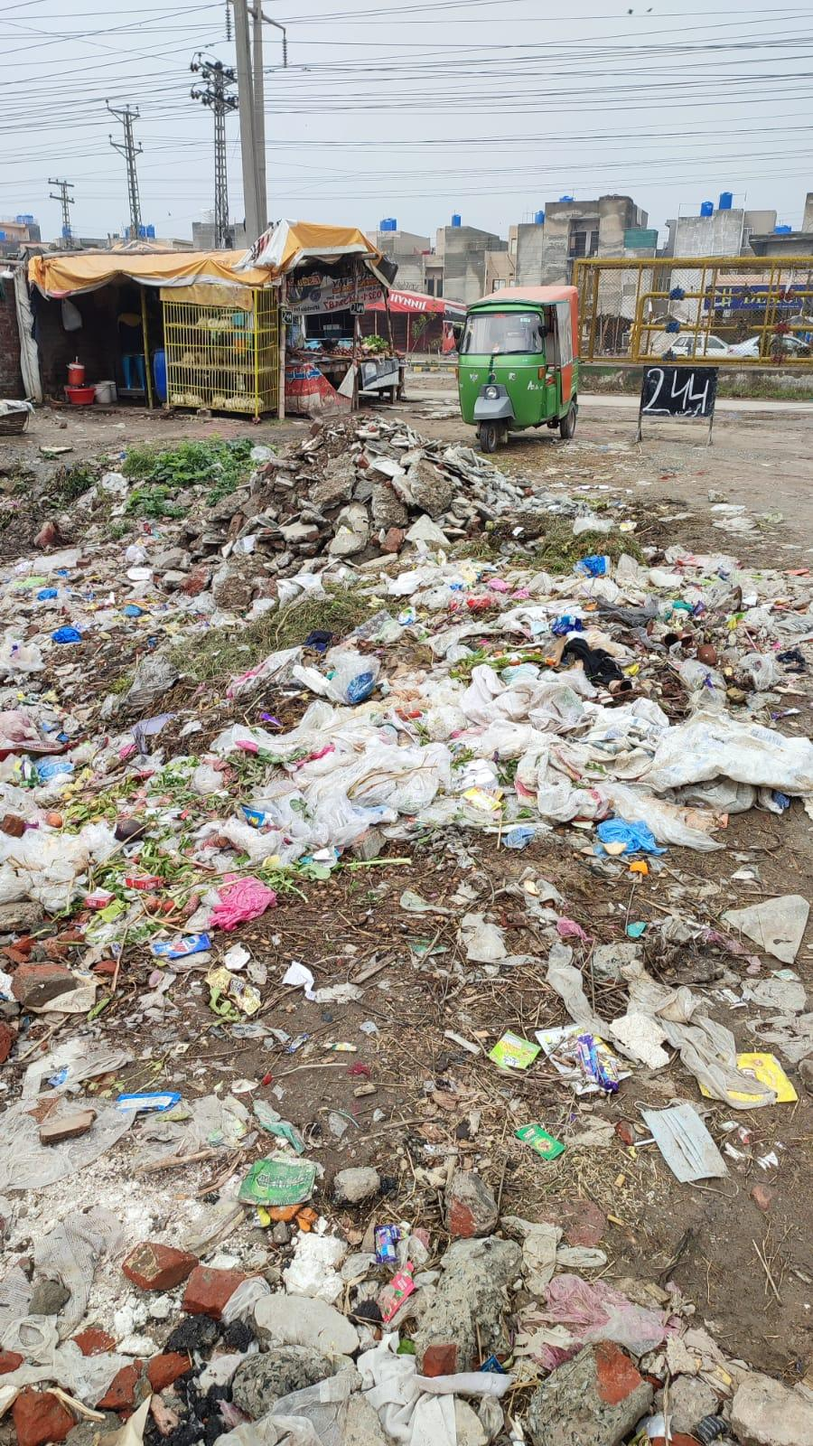garbage: (0, 480, 813, 1446)
